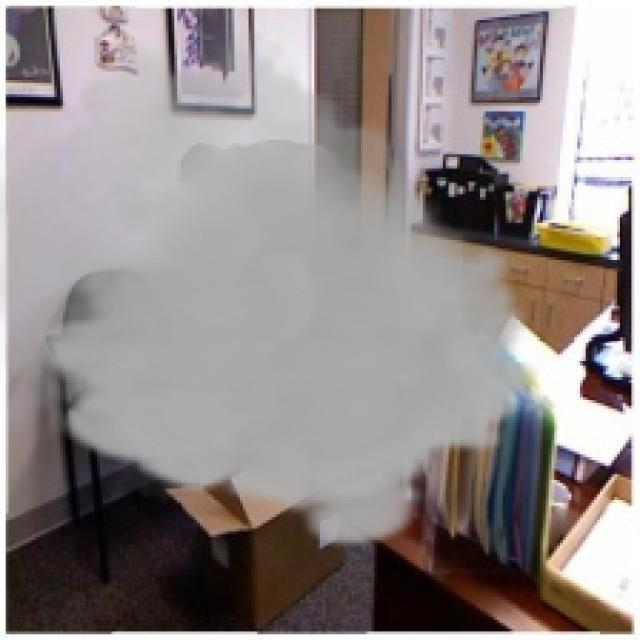Smoke: (0, 26, 540, 552)
